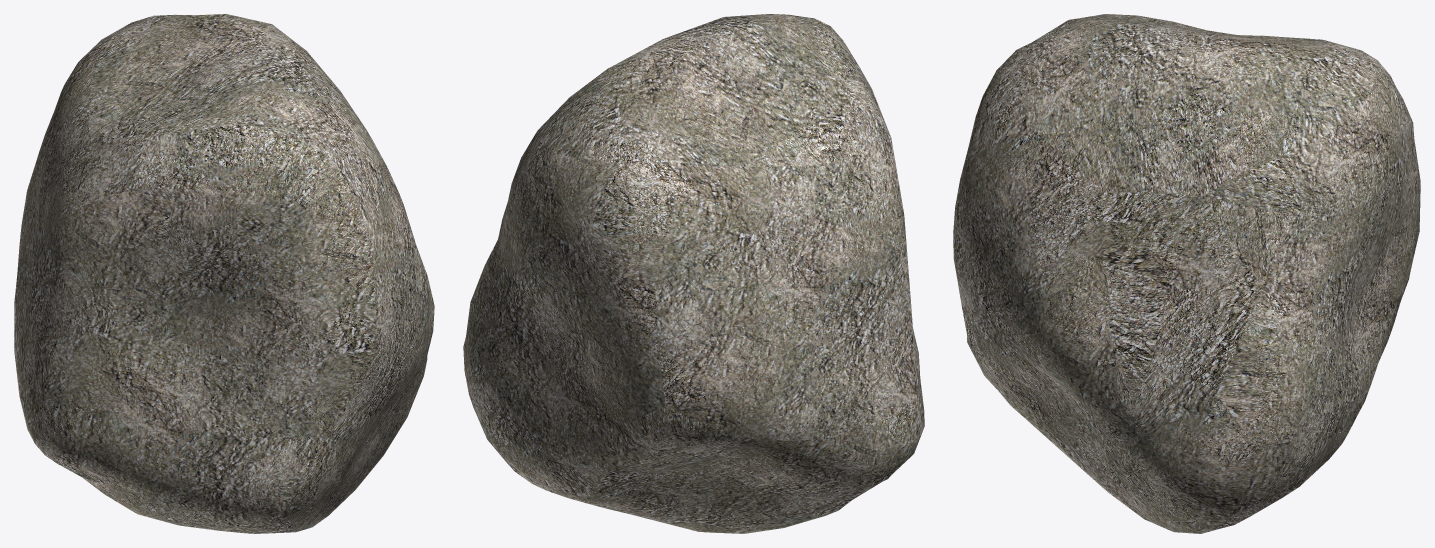
The model's file is boulder_2.dae.
3 views of the same model, side by side, from view 1: azimuth 30°, elevation 25°; view 2: azimuth 150°, elevation 25°; view 3: azimuth 270°, elevation 25° (orthographic). The views are drawn at different scales.
Visible parts, largest first — view 1: bouldercubic128; view 2: bouldercubic128; view 3: bouldercubic128.
Part boxes in pixels (box(x1,y1,x2,y2)): bouldercubic128: box(14, 14, 434, 533); bouldercubic128: box(463, 14, 924, 533); bouldercubic128: box(953, 14, 1420, 533).
Bounding box in the file's own units: 1.87 × 1.96 × 2.15.
Materials: 1 (1 with a texture image).
